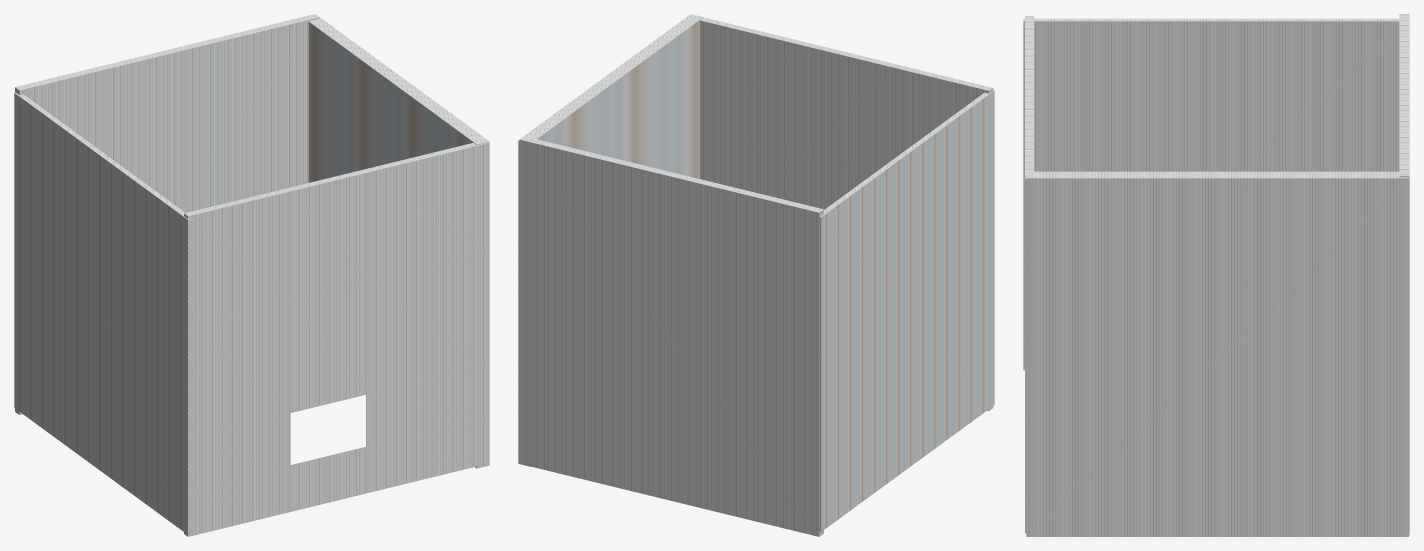
The picture shows the model from 3 angles, left to right: view 1: azimuth 30°, elevation 25°; view 2: azimuth 150°, elevation 25°; view 3: azimuth 270°, elevation 25°; orthographic projection. The views are drawn at different scales.
Visible parts, largest first — view 1: Plane.005, Plane.004, Plane.002, Plane.003; view 2: Plane.002, Plane.004, Plane.005, Plane.003; view 3: Plane.003, Plane.004, Plane.005, Plane.002.
Boxes of the visible parts, x1,y1,x2,y2 form: Plane.005: [184, 142, 489, 536]; Plane.004: [14, 92, 193, 534]; Plane.002: [15, 14, 319, 414]; Plane.003: [308, 15, 489, 468]; Plane.002: [520, 136, 823, 536]; Plane.004: [819, 90, 994, 531]; Plane.005: [700, 17, 993, 410]; Plane.003: [518, 14, 703, 466]; Plane.003: [1026, 171, 1408, 536]; Plane.004: [1023, 18, 1399, 370]; Plane.005: [1025, 16, 1034, 533]; Plane.002: [1399, 14, 1409, 535].
Bounding box in the file's own units: 170 × 174 × 169.
2 materials, 2 textured.
